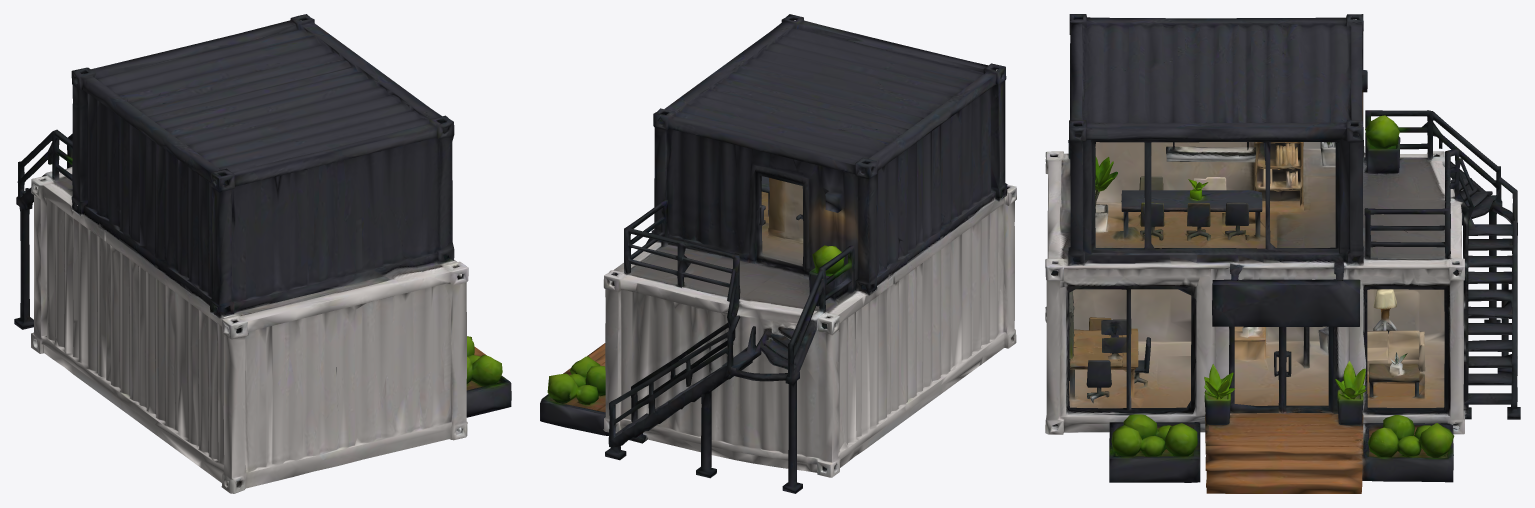
File: escritorio-container.glb
3 renders of one model, left to right at view 1: azimuth 30°, elevation 25°; view 2: azimuth 150°, elevation 25°; view 3: azimuth 270°, elevation 25°, orthographic. The views are drawn at different scales.
Visible parts, largest first — view 1: tripo_node_87753e82-0d41-458a-8e7b-92d2fa4f82e0; view 2: tripo_node_87753e82-0d41-458a-8e7b-92d2fa4f82e0; view 3: tripo_node_87753e82-0d41-458a-8e7b-92d2fa4f82e0.
Boxes of the visible parts, bbox=[...] form: tripo_node_87753e82-0d41-458a-8e7b-92d2fa4f82e0: bbox=[14, 14, 511, 493]; tripo_node_87753e82-0d41-458a-8e7b-92d2fa4f82e0: bbox=[540, 14, 1016, 493]; tripo_node_87753e82-0d41-458a-8e7b-92d2fa4f82e0: bbox=[1045, 14, 1520, 493].
Size of the model in its own units: 1.11 by 0.9999 by 1.36.
1 material, 1 textured.
